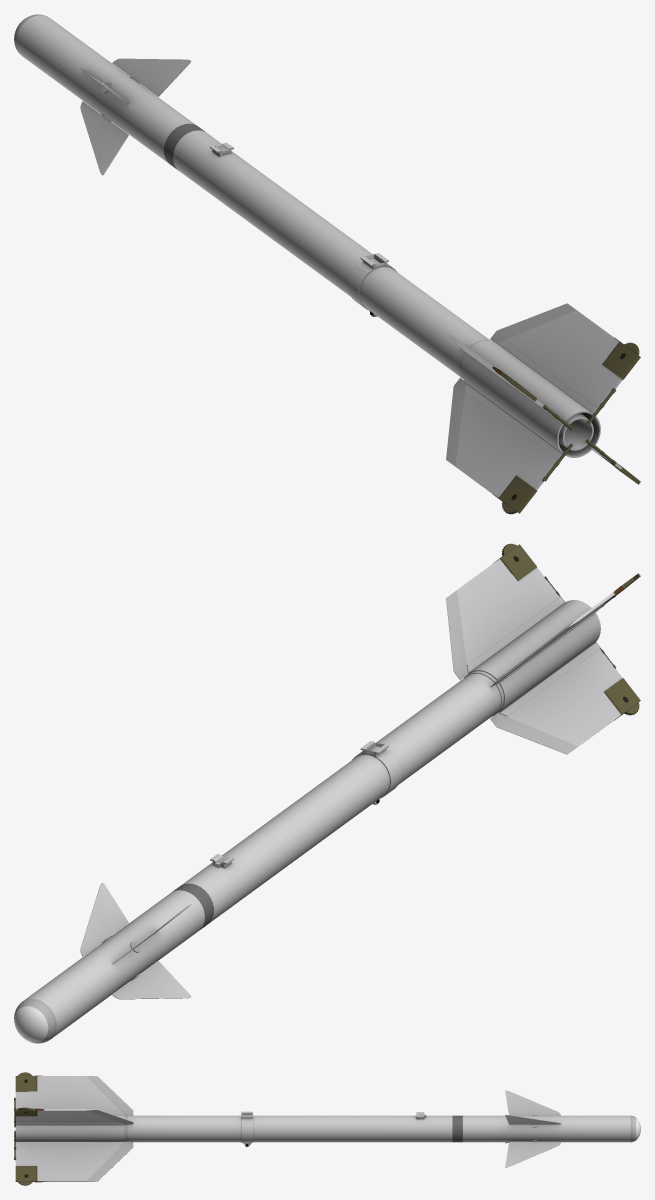
3 views of the same model, one above another, from view 1: azimuth 30°, elevation 25°; view 2: azimuth 150°, elevation 25°; view 3: azimuth 270°, elevation 25° (orthographic). The views are drawn at different scales.
Parts seen in each view (by area): view 1: aa2_body; view 2: aa2_body; view 3: aa2_body.
Part boxes in pixels (x1,y1,x2,y2): aa2_body: [14, 14, 640, 514]; aa2_body: [14, 543, 640, 1043]; aa2_body: [14, 1072, 640, 1185].
Size of the model in its own units: 0.384 by 0.384 by 2.79.
Materials: 2 (2 with a texture image).
